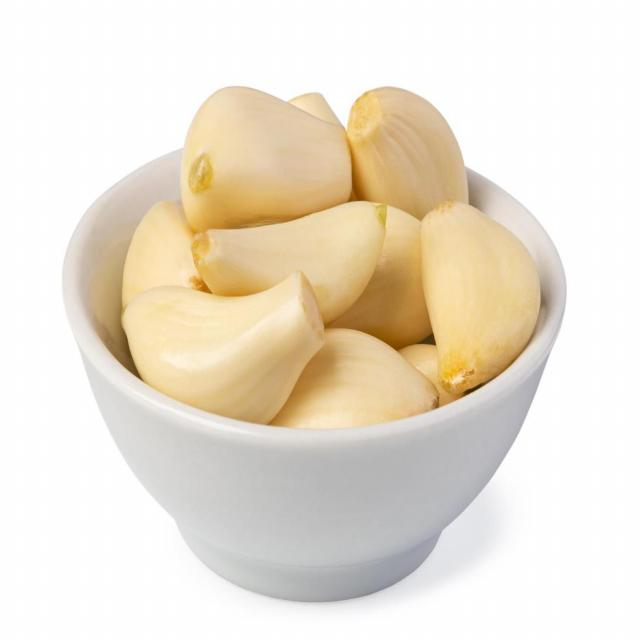garlic: (121, 84, 544, 441)
